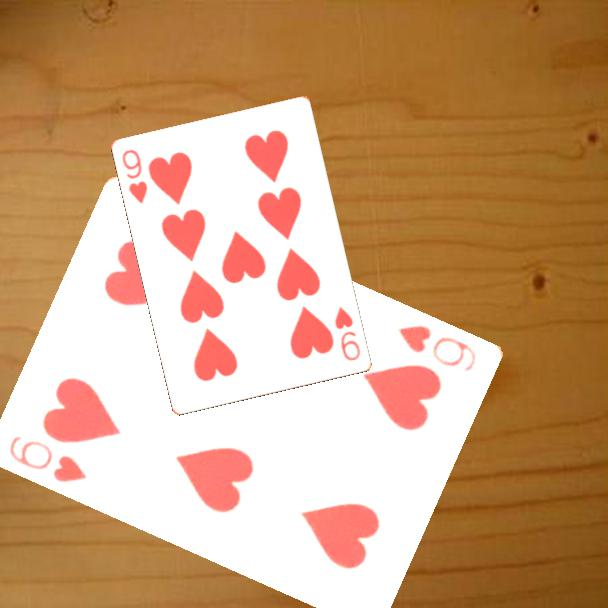h06: (395, 321, 480, 374), (6, 432, 90, 485)
h09: (332, 303, 364, 364), (119, 146, 151, 207)
